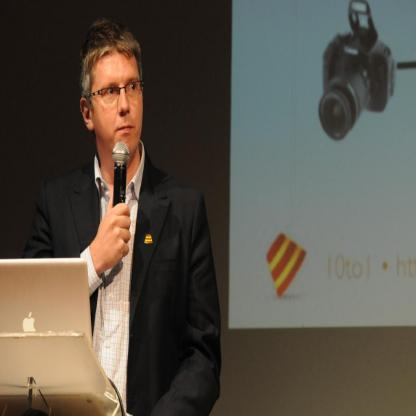board: (0, 260, 118, 410)
